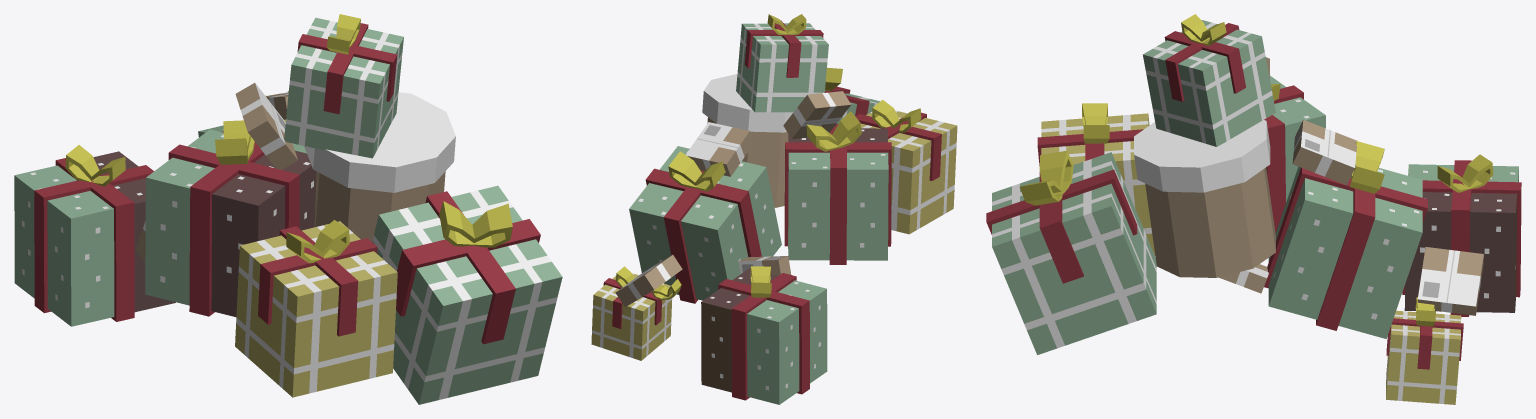
Rendered from Cumulo de regalos 4.fbx.
3 views of the same model, side by side, from view 1: azimuth 30°, elevation 25°; view 2: azimuth 150°, elevation 25°; view 3: azimuth 270°, elevation 25° (orthographic). The views are drawn at different scales.
Parts seen in each view (by area): view 1: fes_Caja_tipo_15, fes_Caja_tipo_13, fes_Caja_tipo_16, fes_Caja_tipo_14, fes_Caja_tipo_17, Caja_circular5, Caja_de_compra_15, Moñito_15, Moñito_13, Moñito_14, Moñito_16, Moñito_17; view 2: fes_Caja_tipo_1, fes_Caja_tipo_14, fes_Caja_tipo_16, fes_Caja_tipo_13, fes_Caja_tipo_17, fes_Caja_tipo_12, Caja_circular5, Caja_de_compra_12, Caja_de_compra_15, Moñito_1 (×2), Caja_de_compra_13, Moñito_16 (+6 smaller); view 3: fes_Caja_tipo_15, fes_Caja_tipo_1, Caja_circular5, fes_Caja_tipo_17, fes_Caja_tipo_14, fes_Caja_tipo_12, fes_Caja_tipo_13, fes_Caja_tipo_16, Caja_de_compra_13, Caja_de_compra_12, Moñito_15, Moñito_1 (+4 smaller).
Boxes of the visible parts, x1=… form: fes_Caja_tipo_15: x1=372, y1=185, x2=562, y2=404; fes_Caja_tipo_13: x1=235, y1=221, x2=397, y2=397; fes_Caja_tipo_16: x1=145, y1=129, x2=316, y2=316; fes_Caja_tipo_14: x1=14, y1=151, x2=175, y2=326; fes_Caja_tipo_17: x1=284, y1=17, x2=403, y2=158; Caja_circular5: x1=304, y1=92, x2=455, y2=241; Caja_de_compra_15: x1=235, y1=83, x2=297, y2=169; Moñito_15: x1=439, y1=201, x2=512, y2=247; Moñito_13: x1=286, y1=220, x2=349, y2=263; Moñito_14: x1=65, y1=145, x2=125, y2=186; Moñito_16: x1=215, y1=120, x2=254, y2=164; Moñito_17: x1=327, y1=14, x2=360, y2=54; fes_Caja_tipo_1: x1=629, y1=146, x2=781, y2=303; fes_Caja_tipo_14: x1=701, y1=268, x2=827, y2=404; fes_Caja_tipo_16: x1=784, y1=124, x2=891, y2=264; fes_Caja_tipo_13: x1=855, y1=110, x2=957, y2=234; fes_Caja_tipo_17: x1=736, y1=20, x2=828, y2=112; fes_Caja_tipo_12: x1=591, y1=273, x2=672, y2=360; Caja_circular5: x1=702, y1=74, x2=793, y2=207; Caja_de_compra_12: x1=686, y1=122, x2=753, y2=176; Caja_de_compra_15: x1=783, y1=91, x2=851, y2=139; Moñito_1 (×2): x1=652, y1=151, x2=725, y2=299; Caja_de_compra_13: x1=615, y1=255, x2=682, y2=307; Moñito_16: x1=806, y1=111, x2=861, y2=151; fes_Caja_tipo_15: x1=986, y1=152, x2=1156, y2=354; fes_Caja_tipo_1: x1=1264, y1=166, x2=1427, y2=338; Caja_circular5: x1=1134, y1=120, x2=1275, y2=277; fes_Caja_tipo_17: x1=1142, y1=20, x2=1275, y2=146; fes_Caja_tipo_14: x1=1402, y1=160, x2=1521, y2=316; fes_Caja_tipo_12: x1=1386, y1=310, x2=1463, y2=404; fes_Caja_tipo_13: x1=1037, y1=113, x2=1155, y2=255; fes_Caja_tipo_16: x1=1264, y1=75, x2=1325, y2=232; Caja_de_compra_13: x1=1417, y1=247, x2=1483, y2=315; Caja_de_compra_12: x1=1292, y1=120, x2=1357, y2=185; Moñito_15: x1=1019, y1=150, x2=1073, y2=205; Moñito_1: x1=1350, y1=141, x2=1384, y2=193.
Bounding box in the file's own units: 0.5368 × 0.6593 × 0.9467.
